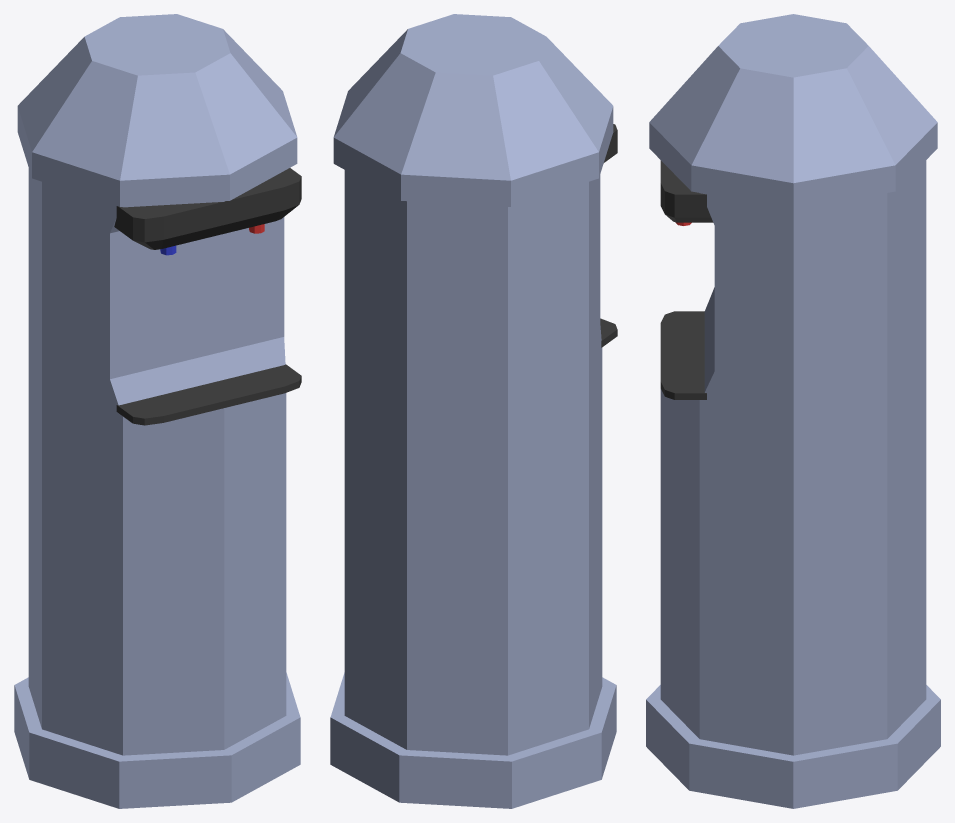
File: WaterDispenser.fbx
3 views of the same model, side by side, from view 1: azimuth 30°, elevation 25°; view 2: azimuth 150°, elevation 25°; view 3: azimuth 270°, elevation 25° (orthographic).
Parts seen in each view (by area): view 1: WaterDispenser; view 2: WaterDispenser; view 3: WaterDispenser.
Boxes of the visible parts, bbox=[...] form: WaterDispenser: bbox=[14, 14, 301, 808]; WaterDispenser: bbox=[330, 14, 617, 808]; WaterDispenser: bbox=[646, 14, 940, 808].
Bounding box in the file's own units: 37.16 × 97.44 × 37.16.
